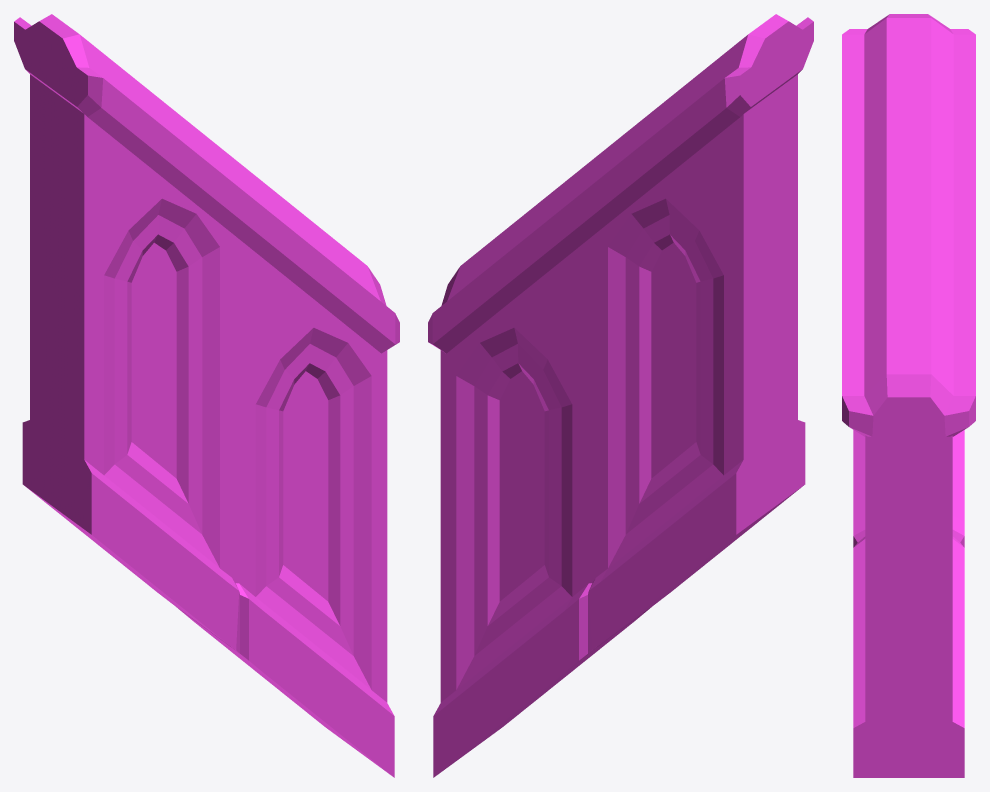
File: SM_Railing_Stone_Stairs_1m_B_Fantasy.fbx
The picture shows the model from 3 angles, left to right: view 1: azimuth 30°, elevation 25°; view 2: azimuth 150°, elevation 25°; view 3: azimuth 270°, elevation 25°; orthographic projection. The views are drawn at different scales.
Visible parts, largest first — view 1: SM_Railing_Stone_Stairs_1m_B_Fantasy; view 2: SM_Railing_Stone_Stairs_1m_B_Fantasy; view 3: SM_Railing_Stone_Stairs_1m_B_Fantasy.
Boxes of the visible parts, x1,y1,x2,y2 form: SM_Railing_Stone_Stairs_1m_B_Fantasy: (14,14,399,777); SM_Railing_Stone_Stairs_1m_B_Fantasy: (428,14,813,777); SM_Railing_Stone_Stairs_1m_B_Fantasy: (842,14,975,777).
Bounding box in the file's own units: 1.04 × 2.52 × 0.4755.
